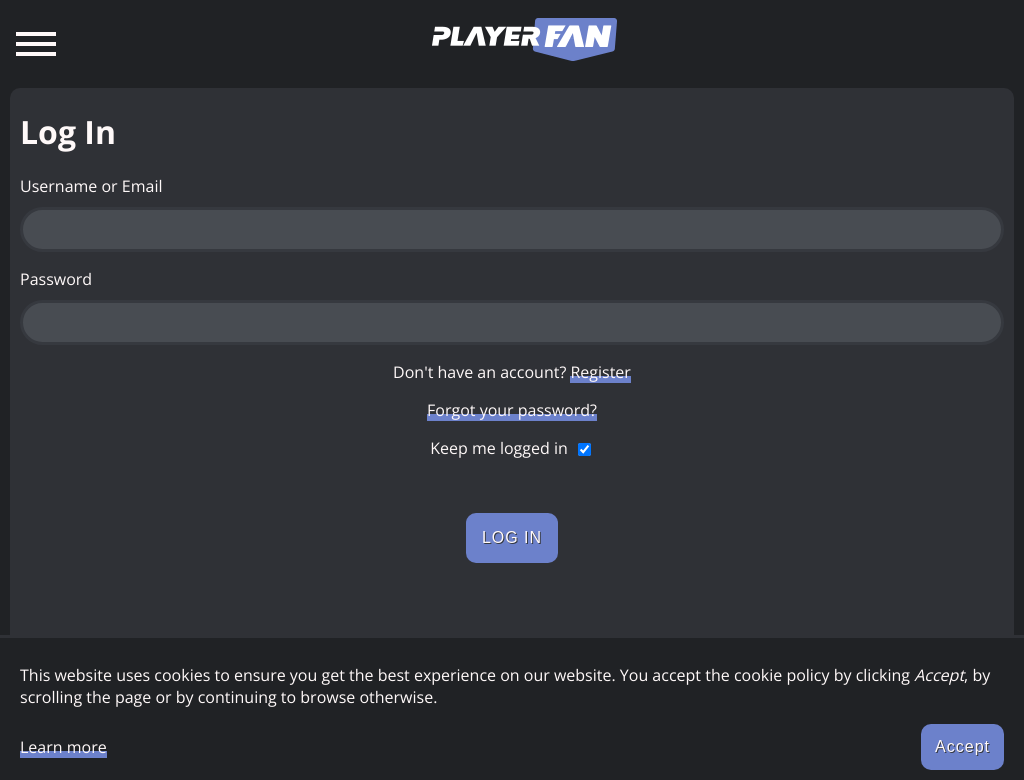
it: /login › requires username/email
The width and height of the screenshot is (1024, 780).
Click the button "Log In". click: x=512, y=538
box: [466, 513, 558, 563]
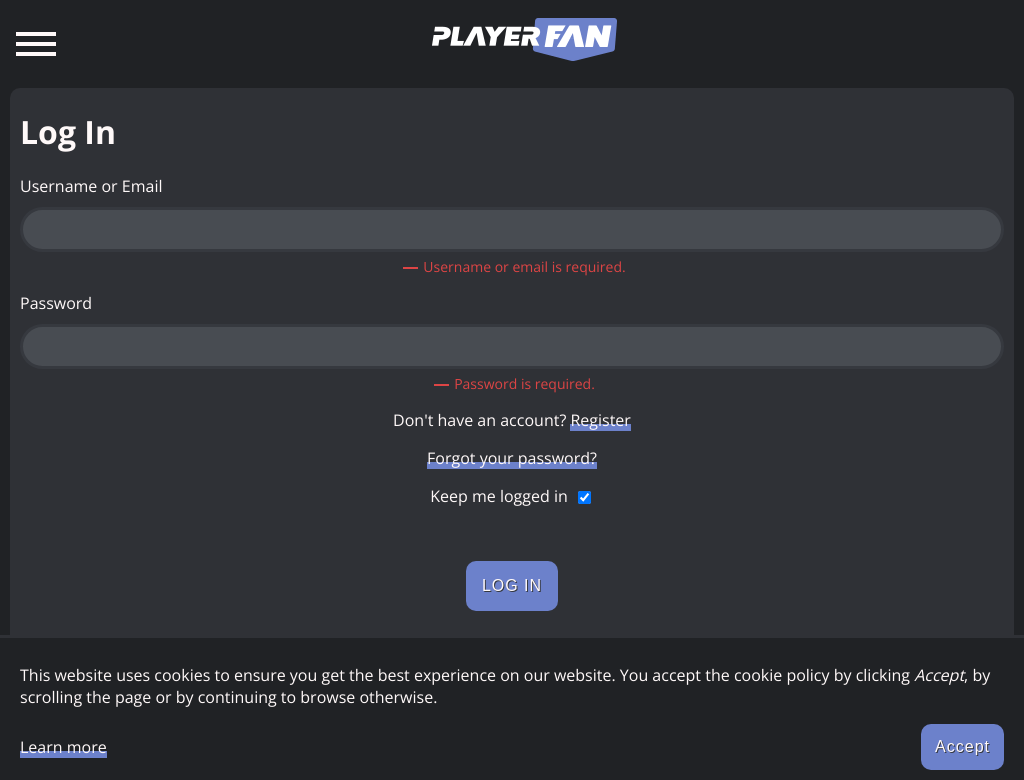
Result: the text "Username or email is required." is shown at [423, 257, 626, 276]
Result: the text with test id "form-error" shows "Username or email is required" at [423, 257, 625, 276]
Result: the text with test id "form-error" shows "Password is required" at [454, 374, 595, 393]
